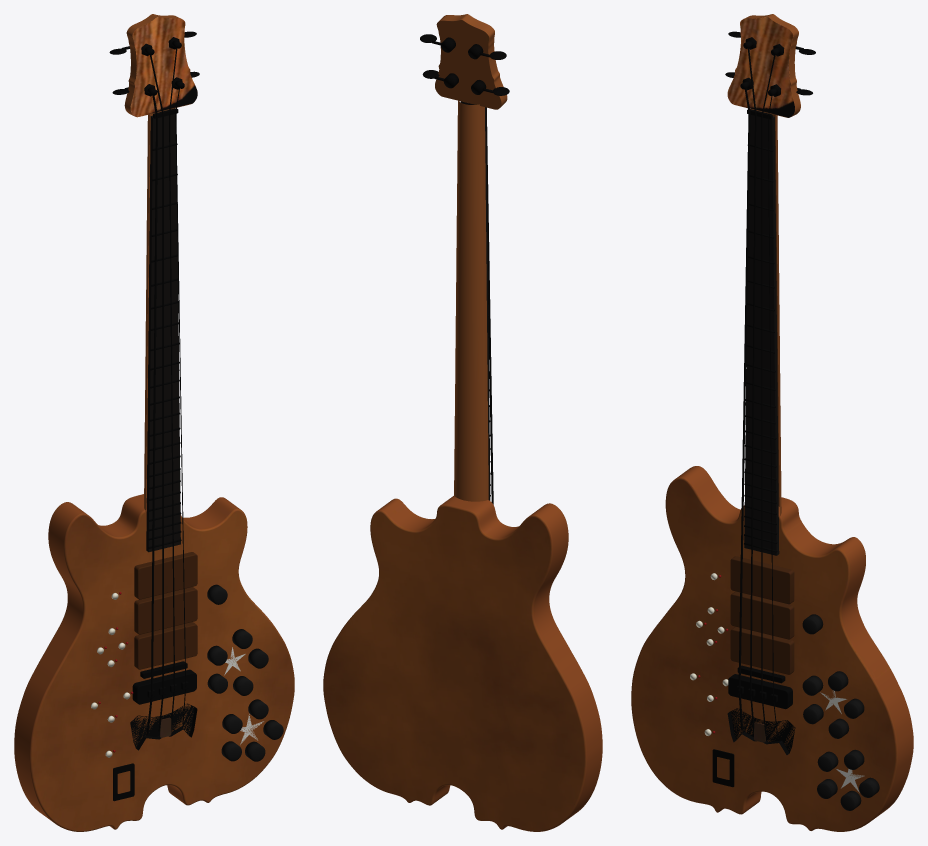
File: lesh.glb
The picture shows the model from 3 angles, left to right: view 1: azimuth 30°, elevation 25°; view 2: azimuth 150°, elevation 25°; view 3: azimuth 330°, elevation 25°; orthographic projection.
Parts seen in each view (by area): view 1: lesh; view 2: lesh; view 3: lesh.
Boxes of the visible parts, box(x1,y1,x2,y2) form: lesh: box(14, 14, 294, 831); lesh: box(323, 14, 602, 831); lesh: box(631, 14, 913, 831).
Size of the model in its own units: 0.3937 by 1.13 by 0.0626.
1 material, 1 textured.
